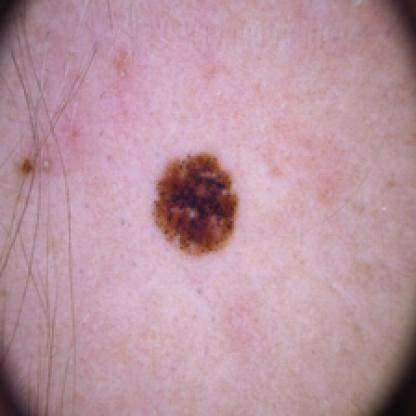benign: (145, 147, 249, 256)
